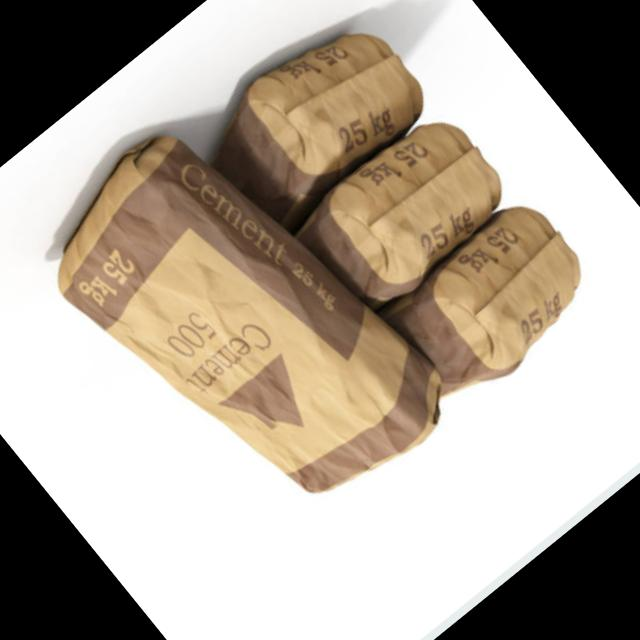KantongSemen: (17, 84, 471, 563), (286, 100, 520, 323), (378, 188, 610, 410), (206, 6, 436, 228)
